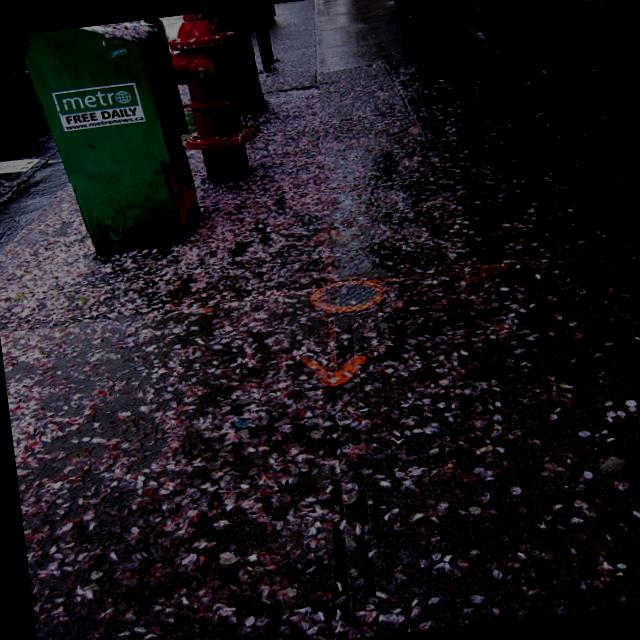Vehicle: (0, 34, 32, 106)
